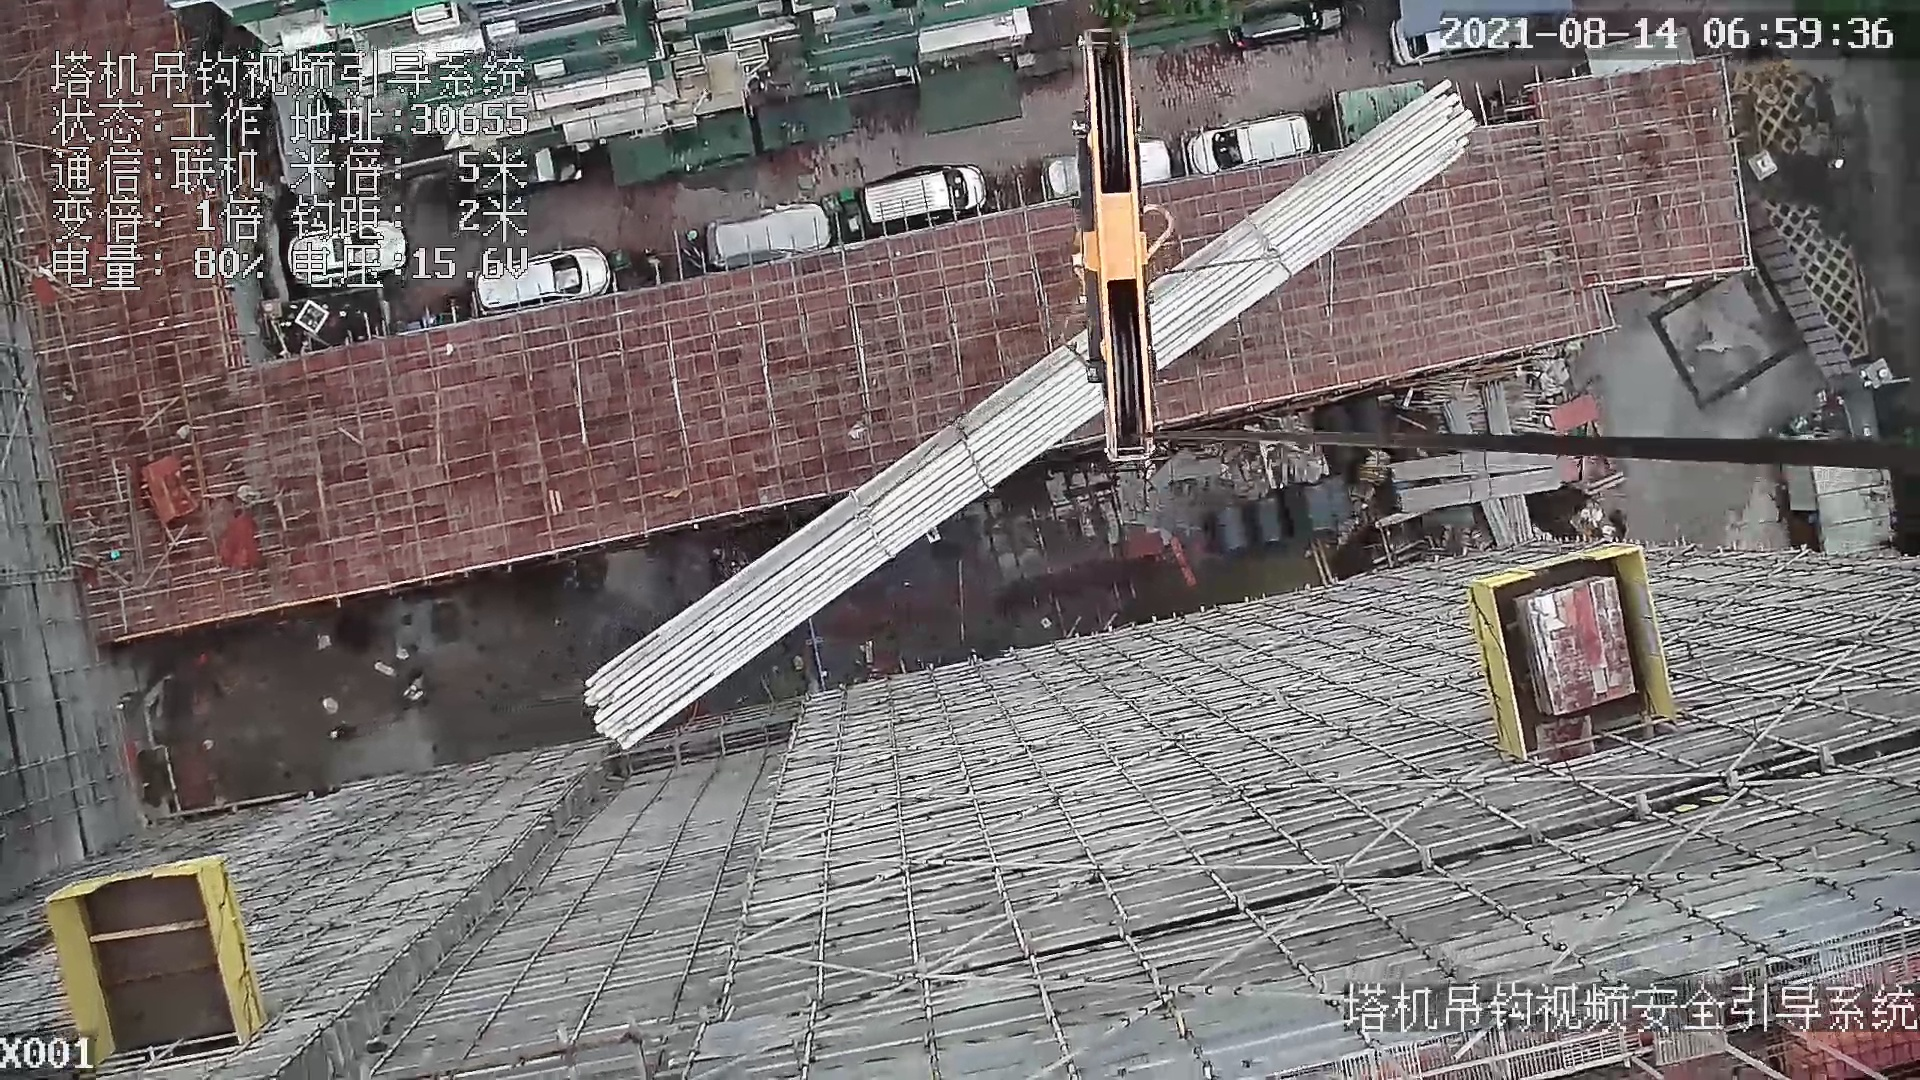board: (1516, 578, 1636, 716)
hook: (1059, 15, 1176, 462)
rebar: (582, 80, 1466, 749), (1396, 467, 1561, 514), (1393, 454, 1557, 483)
